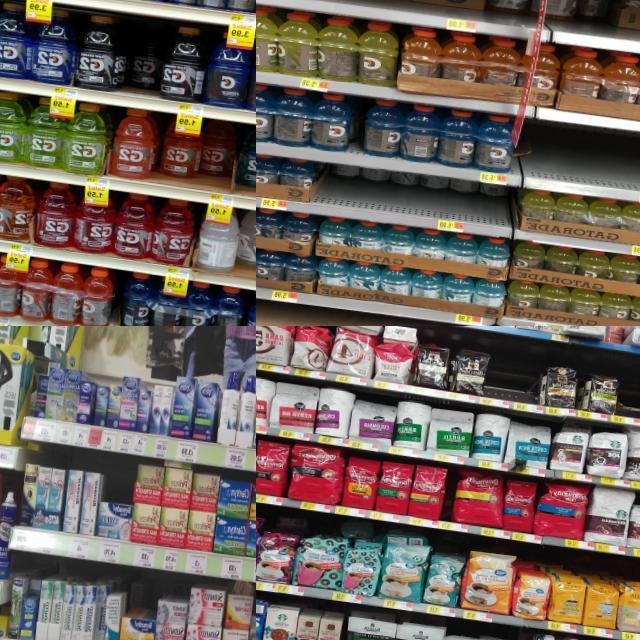Imprecise: (158, 116, 234, 192), (314, 162, 394, 210), (119, 18, 167, 97), (392, 168, 447, 216), (450, 176, 508, 221)
